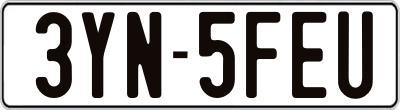3: (36, 9, 73, 96)
5: (197, 11, 235, 98)
E: (289, 11, 329, 97)
F: (246, 10, 280, 96)
N: (127, 12, 162, 101)
U: (335, 10, 370, 99)
Y: (80, 11, 118, 97)
